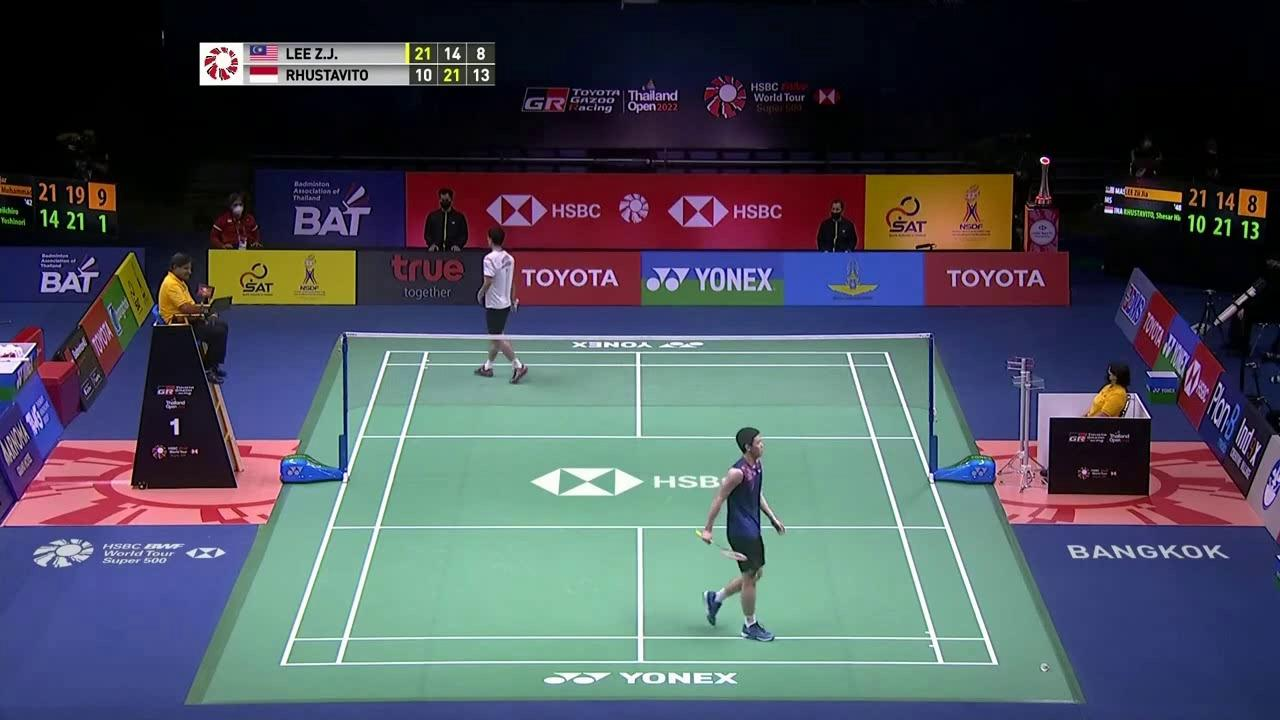racket: (694, 529, 749, 563), (509, 295, 520, 316)
shuttle: (1039, 662, 1050, 672)
